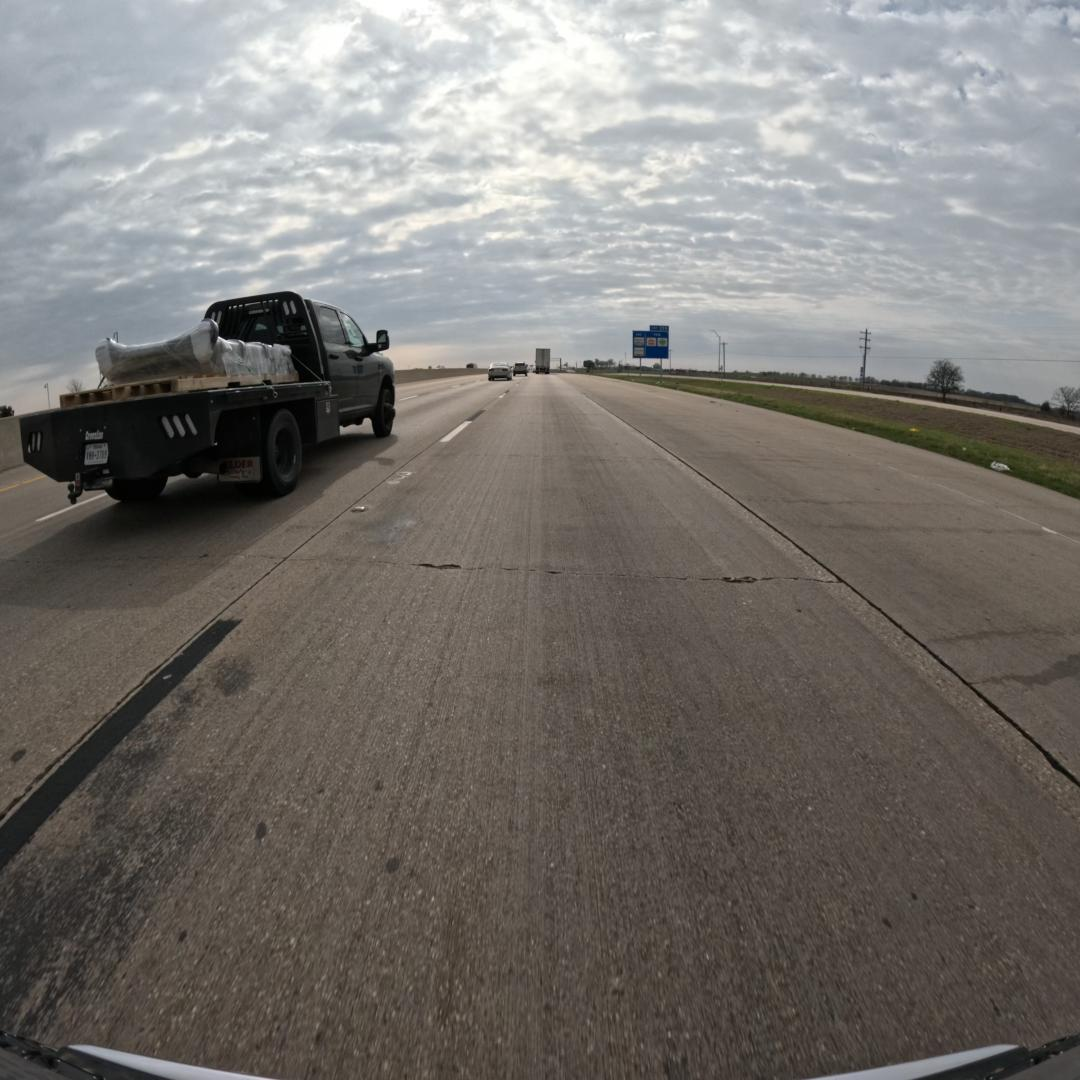lane0: (0, 379, 1080, 1077)
lane1: (0, 376, 519, 815)
